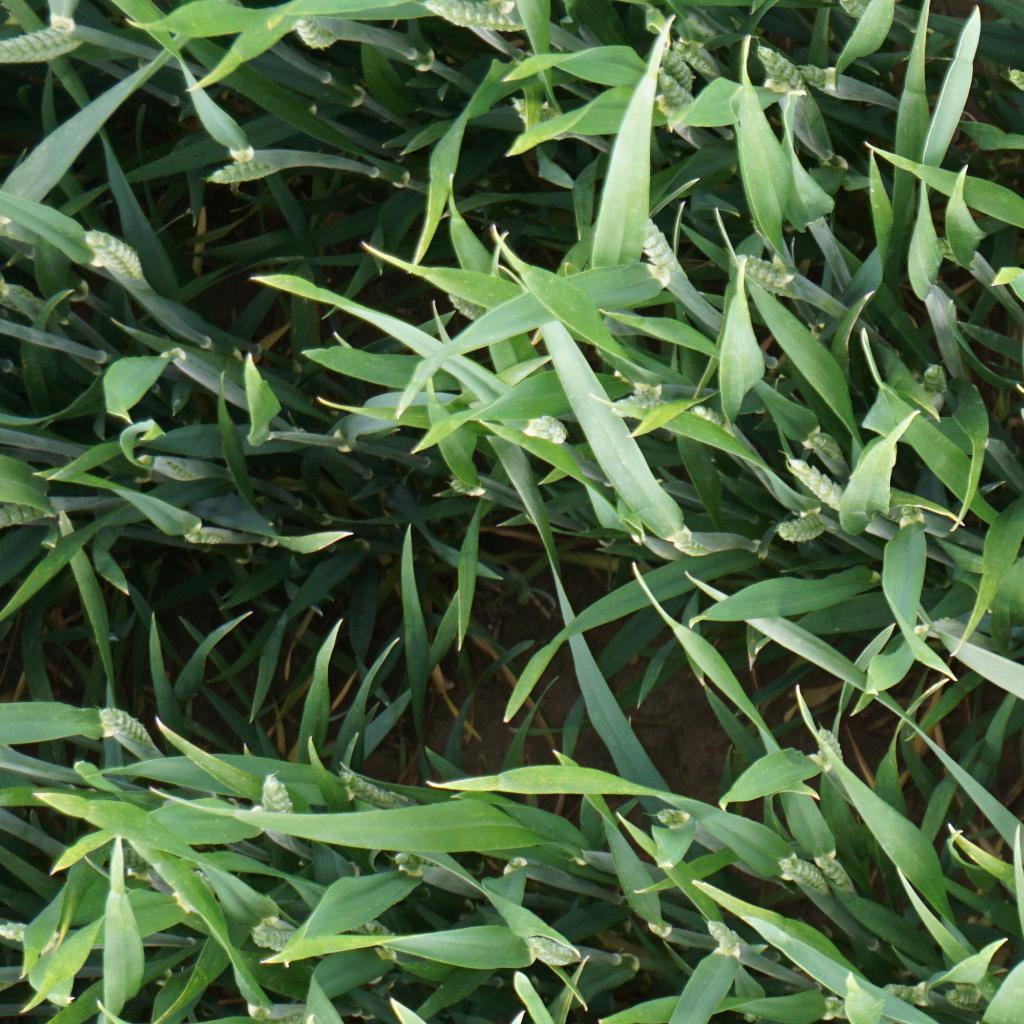0-0: (728, 43, 826, 133), (321, 753, 420, 825), (610, 212, 692, 293), (241, 768, 310, 861), (635, 51, 707, 135), (409, 0, 548, 42), (230, 911, 335, 965), (201, 141, 303, 195), (782, 55, 880, 111), (0, 14, 91, 73), (599, 378, 710, 425), (67, 228, 154, 287), (718, 245, 812, 299), (641, 27, 697, 115), (377, 834, 463, 890), (787, 848, 870, 905), (658, 31, 735, 92), (495, 92, 580, 147), (778, 449, 852, 512), (99, 692, 160, 764), (274, 8, 363, 57), (914, 219, 989, 273), (686, 399, 760, 453), (652, 522, 741, 566), (514, 920, 581, 976), (770, 857, 840, 904), (840, 981, 934, 1016), (935, 978, 1012, 1020), (0, 272, 59, 322), (804, 425, 854, 482), (439, 285, 497, 330), (0, 493, 61, 532), (350, 911, 398, 960), (104, 840, 164, 879), (140, 449, 207, 483), (774, 512, 842, 545), (0, 915, 66, 949), (922, 348, 950, 428), (512, 412, 572, 447), (808, 714, 841, 775), (701, 916, 743, 962), (654, 797, 696, 837)
